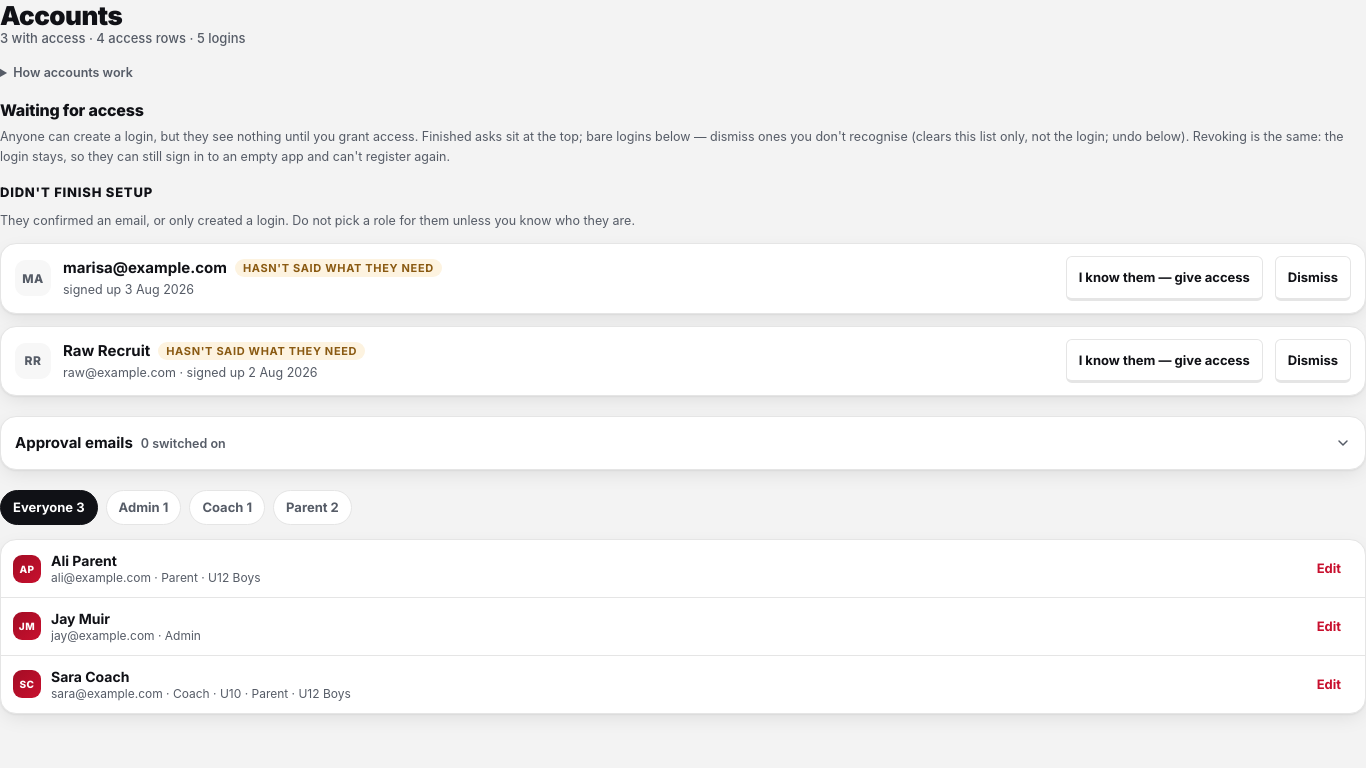
Test case: Accounts — list › shows the linked player’s name, and a placeholder when there is none
Expected: the text "Sara Coach" is shown, x1=51 y1=668 x2=129 y2=685
Click the button "Edit" in the row of "ali@example.com". click: (1329, 569)
box: x1=1305 y1=548 x2=1353 y2=589
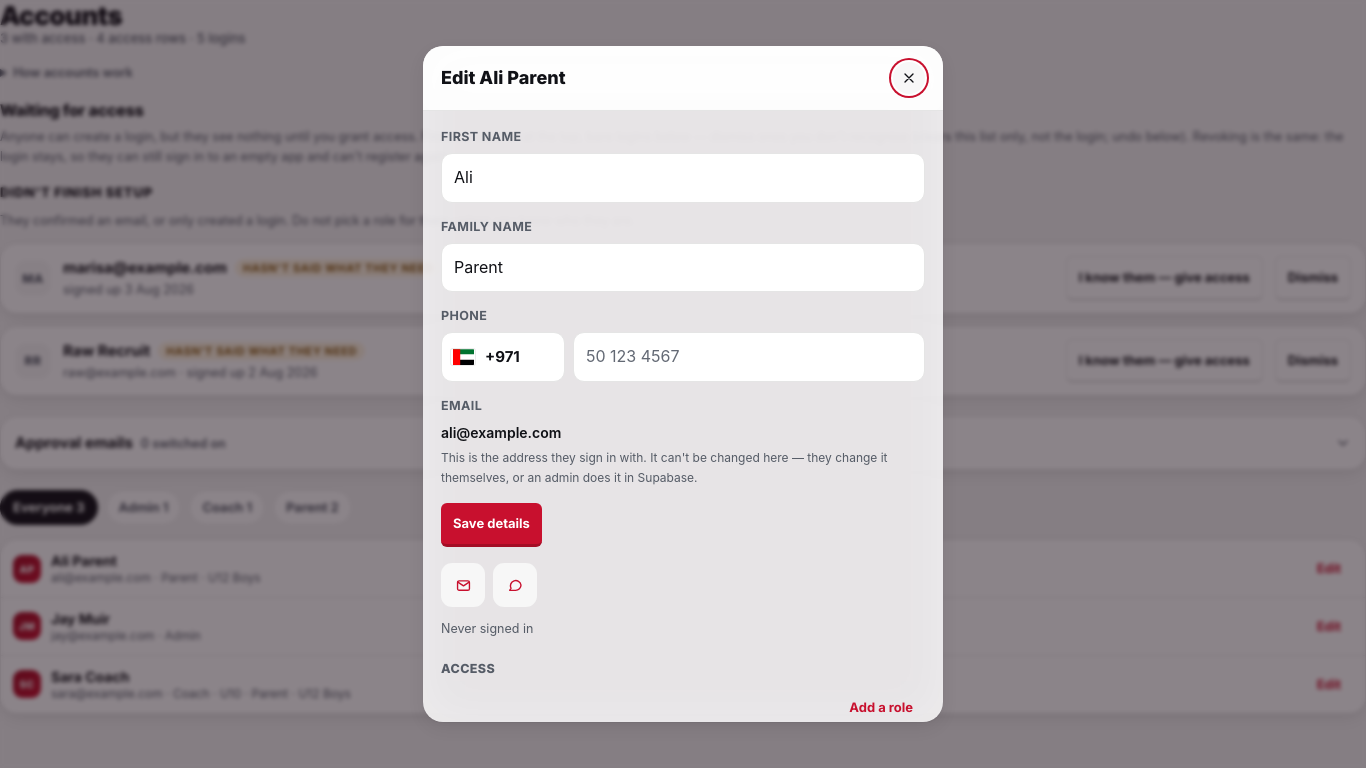
Click the button named "Close". click: (909, 78)
box: x1=893 y1=62 x2=925 y2=94
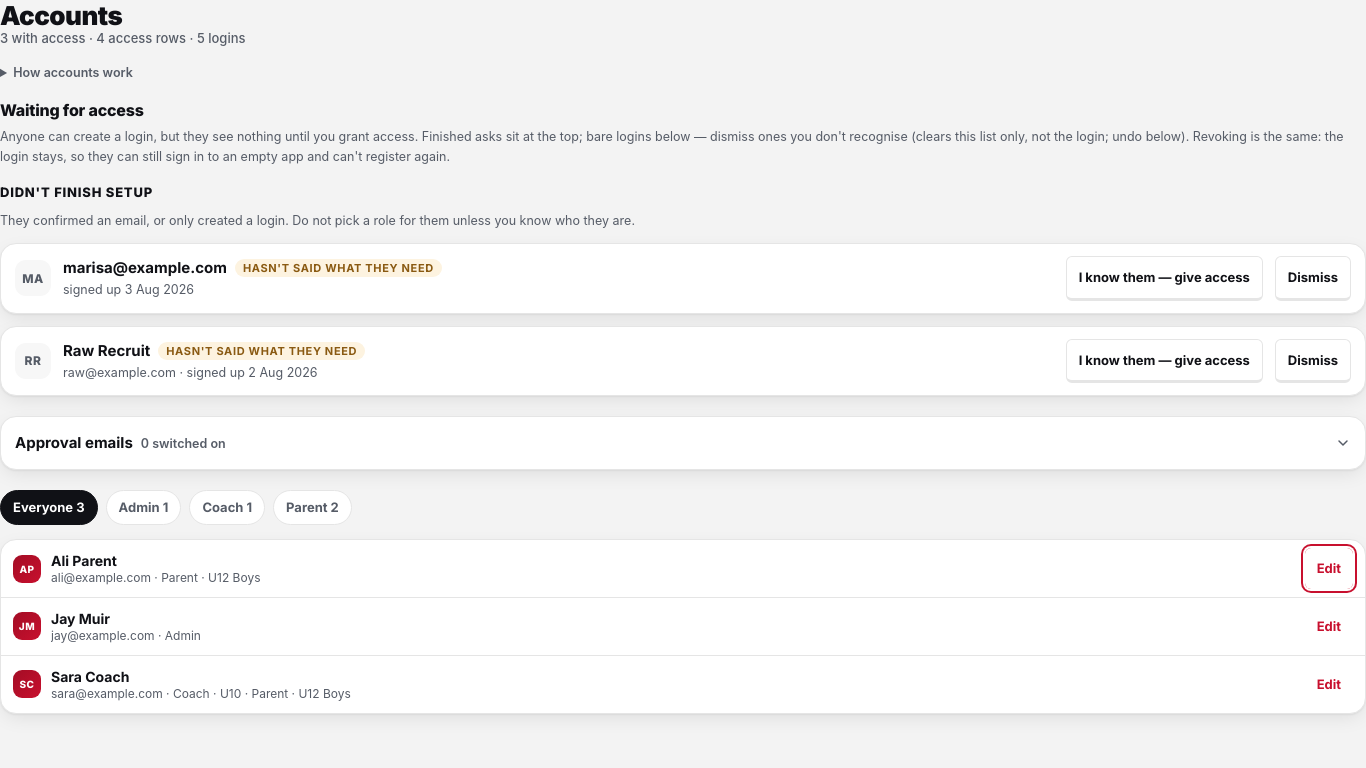
Expected: the dialog is gone
Click the button "Edit" in the row of "jay@example.com". click: (1329, 626)
box: x1=1305 y1=606 x2=1353 y2=647
(page scrolled)
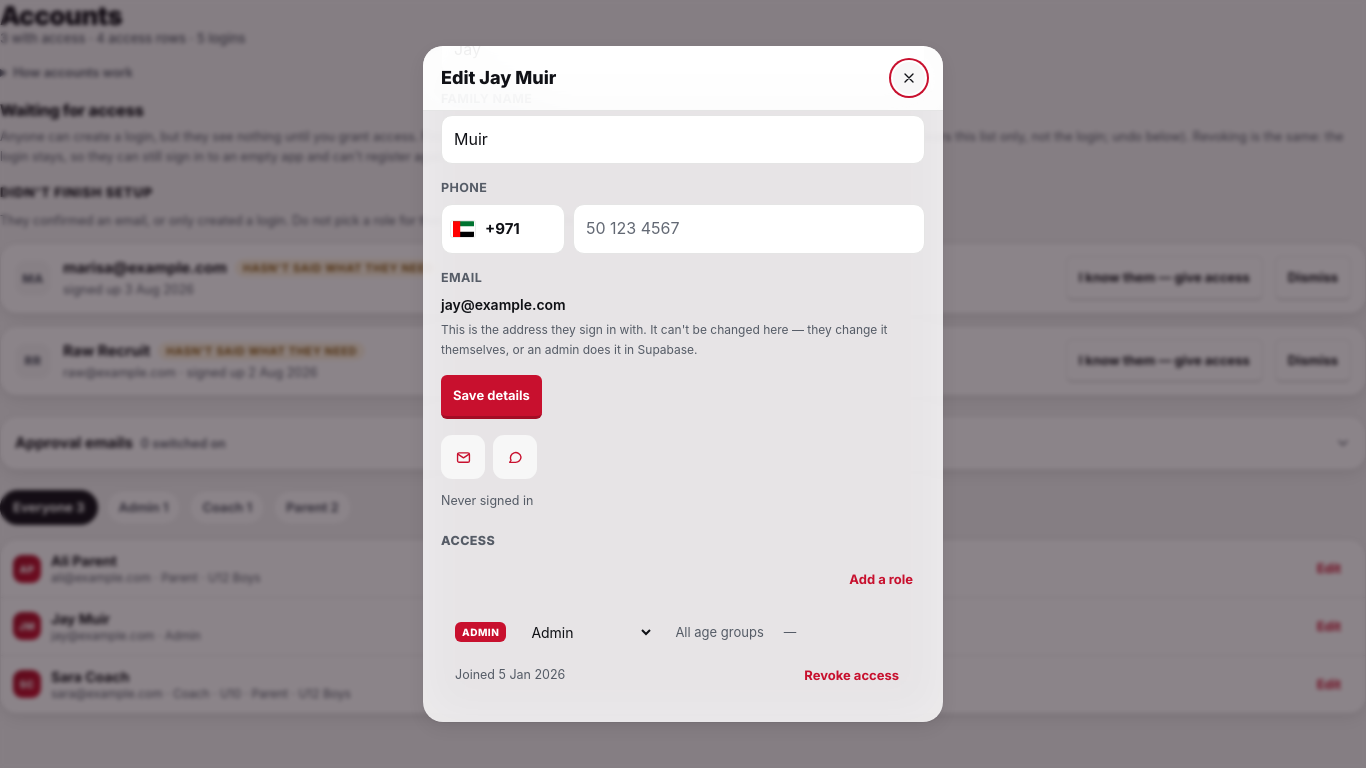
Expected: the element with test id "account-linked-player" reads "—", x1=784 y1=624 x2=796 y2=639
